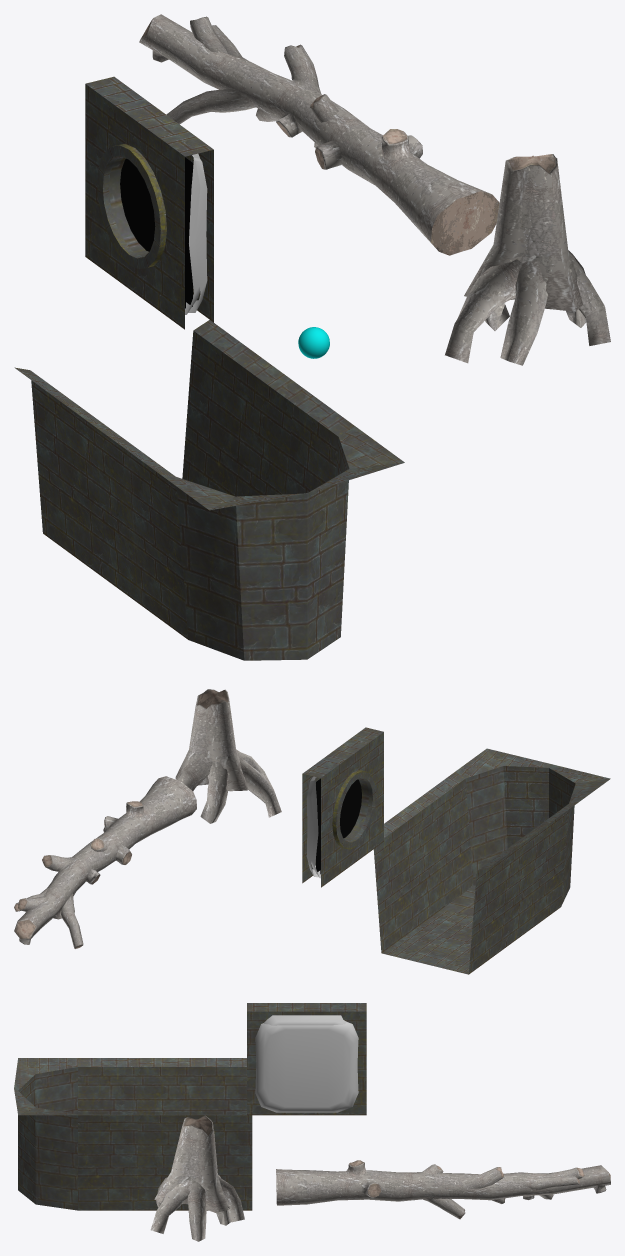
The model's file is LCN_ENV_EP_PAK_0.fbx.
3 renders of one model, top to bottom at view 1: azimuth 30°, elevation 25°; view 2: azimuth 150°, elevation 25°; view 3: azimuth 270°, elevation 25°, orthographic. The views are drawn at different scales.
Parts seen in each view (by area): view 1: OBJ_WAL_EP_WTR_END, OBJ_WAL_EP_WTR_STR, OBJ_EP_TREEBRG, OBJ_WAL_EP_HOL, OBJ_EP_TREESTMP, OBJ_WAL_EP_HOL_CUL, OBJ_WAL_EP_HOL_VINE_B, OBJ_WAL_EP_HOL_VINE_A; view 2: OBJ_WAL_EP_WTR_STR, OBJ_WAL_EP_WTR_END, OBJ_EP_TREEBRG, OBJ_WAL_EP_HOL, OBJ_EP_TREESTMP, OBJ_WAL_EP_HOL_CUL, OBJ_WAL_EP_HOL_VINE_B, OBJ_WAL_EP_HOL_VINE_A; view 3: OBJ_WAL_EP_WTR_END, OBJ_WAL_EP_WTR_STR, OBJ_EP_TREEBRG, OBJ_WAL_EP_HOL_VINE_B, OBJ_EP_TREESTMP, OBJ_WAL_EP_HOL, OBJ_WAL_EP_HOL_VINE_A.
Part boxes in pixels (<box>): OBJ_WAL_EP_WTR_END: <box>110,390,404,660</box>; OBJ_WAL_EP_WTR_STR: <box>14,320,309,605</box>; OBJ_EP_TREEBRG: <box>139,14,499,255</box>; OBJ_WAL_EP_HOL: <box>85,76,213,329</box>; OBJ_EP_TREESTMP: <box>445,154,610,365</box>; OBJ_WAL_EP_HOL_CUL: <box>120,157,192,308</box>; OBJ_WAL_EP_HOL_VINE_B: <box>188,155,207,312</box>; OBJ_WAL_EP_HOL_VINE_A: <box>185,153,200,314</box>; OBJ_WAL_EP_WTR_STR: <box>373,793,549,974</box>; OBJ_WAL_EP_WTR_END: <box>424,748,610,927</box>; OBJ_EP_TREEBRG: <box>14,776,196,948</box>; OBJ_WAL_EP_HOL: <box>302,727,383,887</box>; OBJ_EP_TREESTMP: <box>175,689,281,823</box>; OBJ_WAL_EP_HOL_CUL: <box>316,778,361,874</box>; OBJ_WAL_EP_HOL_VINE_B: <box>306,776,318,877</box>; OBJ_WAL_EP_HOL_VINE_A: <box>311,776,320,878</box>; OBJ_WAL_EP_WTR_END: <box>14,1058,137,1210</box>; OBJ_WAL_EP_WTR_STR: <box>132,1058,252,1210</box>; OBJ_EP_TREEBRG: <box>276,1160,610,1219</box>; OBJ_WAL_EP_HOL_VINE_B: <box>255,1022,358,1112</box>; OBJ_EP_TREESTMP: <box>150,1115,244,1241</box>; OBJ_WAL_EP_HOL: <box>247,1003,366,1115</box>; OBJ_WAL_EP_HOL_VINE_A: <box>264,1015,346,1025</box>.
Size of the model in its own units: 38.73 by 24 by 62.58.
